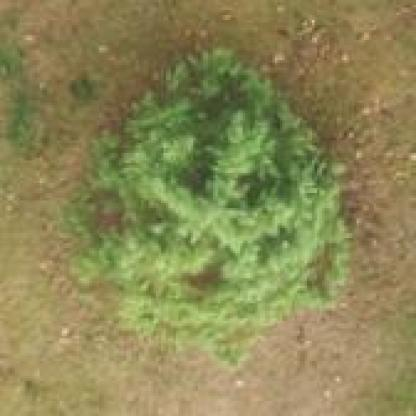Coniferous Tree: (52, 54, 359, 329)
